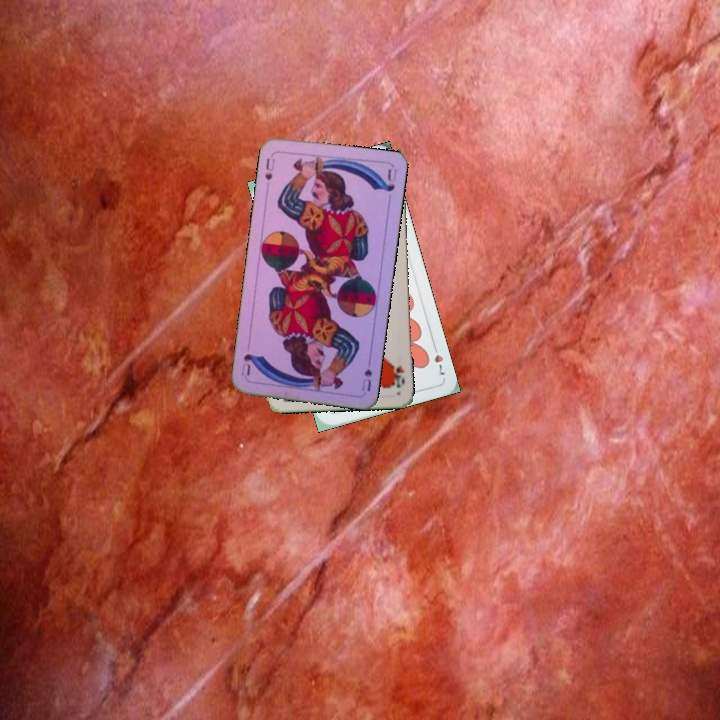H7: (429, 340, 448, 378)
HO: (388, 358, 407, 390)
SU: (357, 353, 374, 394), (261, 154, 278, 183)
